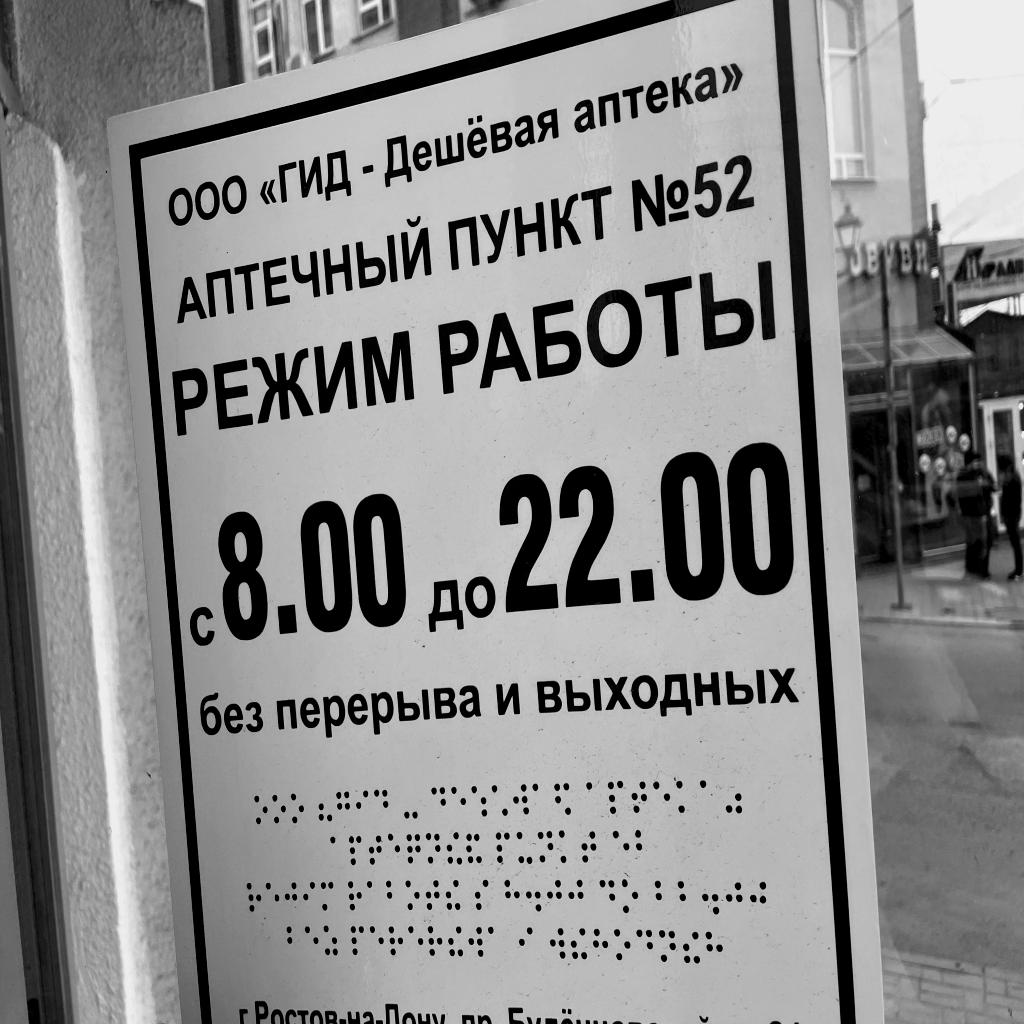_n: (659, 930, 676, 962), (538, 831, 554, 863), (425, 833, 441, 863)
_y: (517, 832, 533, 864)
a: (532, 783, 548, 814), (586, 782, 602, 813), (700, 781, 716, 812), (488, 926, 504, 957), (366, 880, 381, 911), (330, 835, 343, 865)
b: (385, 880, 401, 910), (286, 926, 300, 954)
ch: (406, 834, 421, 864)
d: (636, 929, 653, 960), (600, 879, 616, 911), (431, 786, 446, 819), (374, 789, 389, 821)
defis: (403, 790, 418, 819)
e: (653, 781, 670, 814), (451, 786, 467, 817), (265, 881, 280, 913), (408, 926, 423, 956), (304, 926, 319, 955), (369, 926, 384, 955), (388, 833, 401, 863)
g: (335, 791, 351, 823)
gh: (284, 882, 298, 913)
i: (518, 927, 533, 958), (355, 790, 369, 821), (303, 881, 316, 911)
iKratkoe: (466, 834, 482, 863)
ii: (684, 932, 701, 963), (447, 833, 463, 865), (571, 928, 587, 960), (445, 880, 461, 911), (448, 927, 463, 957)
k: (559, 830, 576, 862), (677, 781, 694, 812)
kavichki1: (318, 791, 333, 822)
kavichki2: (727, 781, 742, 813)
m: (321, 881, 335, 911)
o: (622, 879, 638, 913), (614, 929, 631, 960), (405, 880, 420, 911), (272, 795, 287, 824), (290, 793, 304, 824), (254, 796, 268, 825)
p: (608, 780, 624, 814), (496, 832, 510, 863), (348, 835, 362, 866), (351, 926, 364, 955)
r: (247, 882, 263, 913), (427, 926, 443, 957), (388, 927, 404, 957), (348, 881, 363, 912)
s: (474, 879, 489, 911)
sh: (471, 786, 488, 817)
t: (631, 781, 647, 813), (582, 830, 597, 863), (425, 879, 440, 911), (369, 835, 383, 866)
tochka: (702, 880, 719, 914), (526, 878, 542, 912)
v: (513, 784, 529, 815), (468, 927, 484, 958), (550, 928, 566, 959)
x: (706, 932, 722, 965), (593, 929, 608, 960)
ya: (554, 783, 571, 816)
yo: (492, 785, 508, 816)
z: (323, 926, 338, 956)
